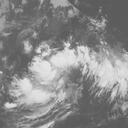cyclone: (24, 46, 127, 113)
